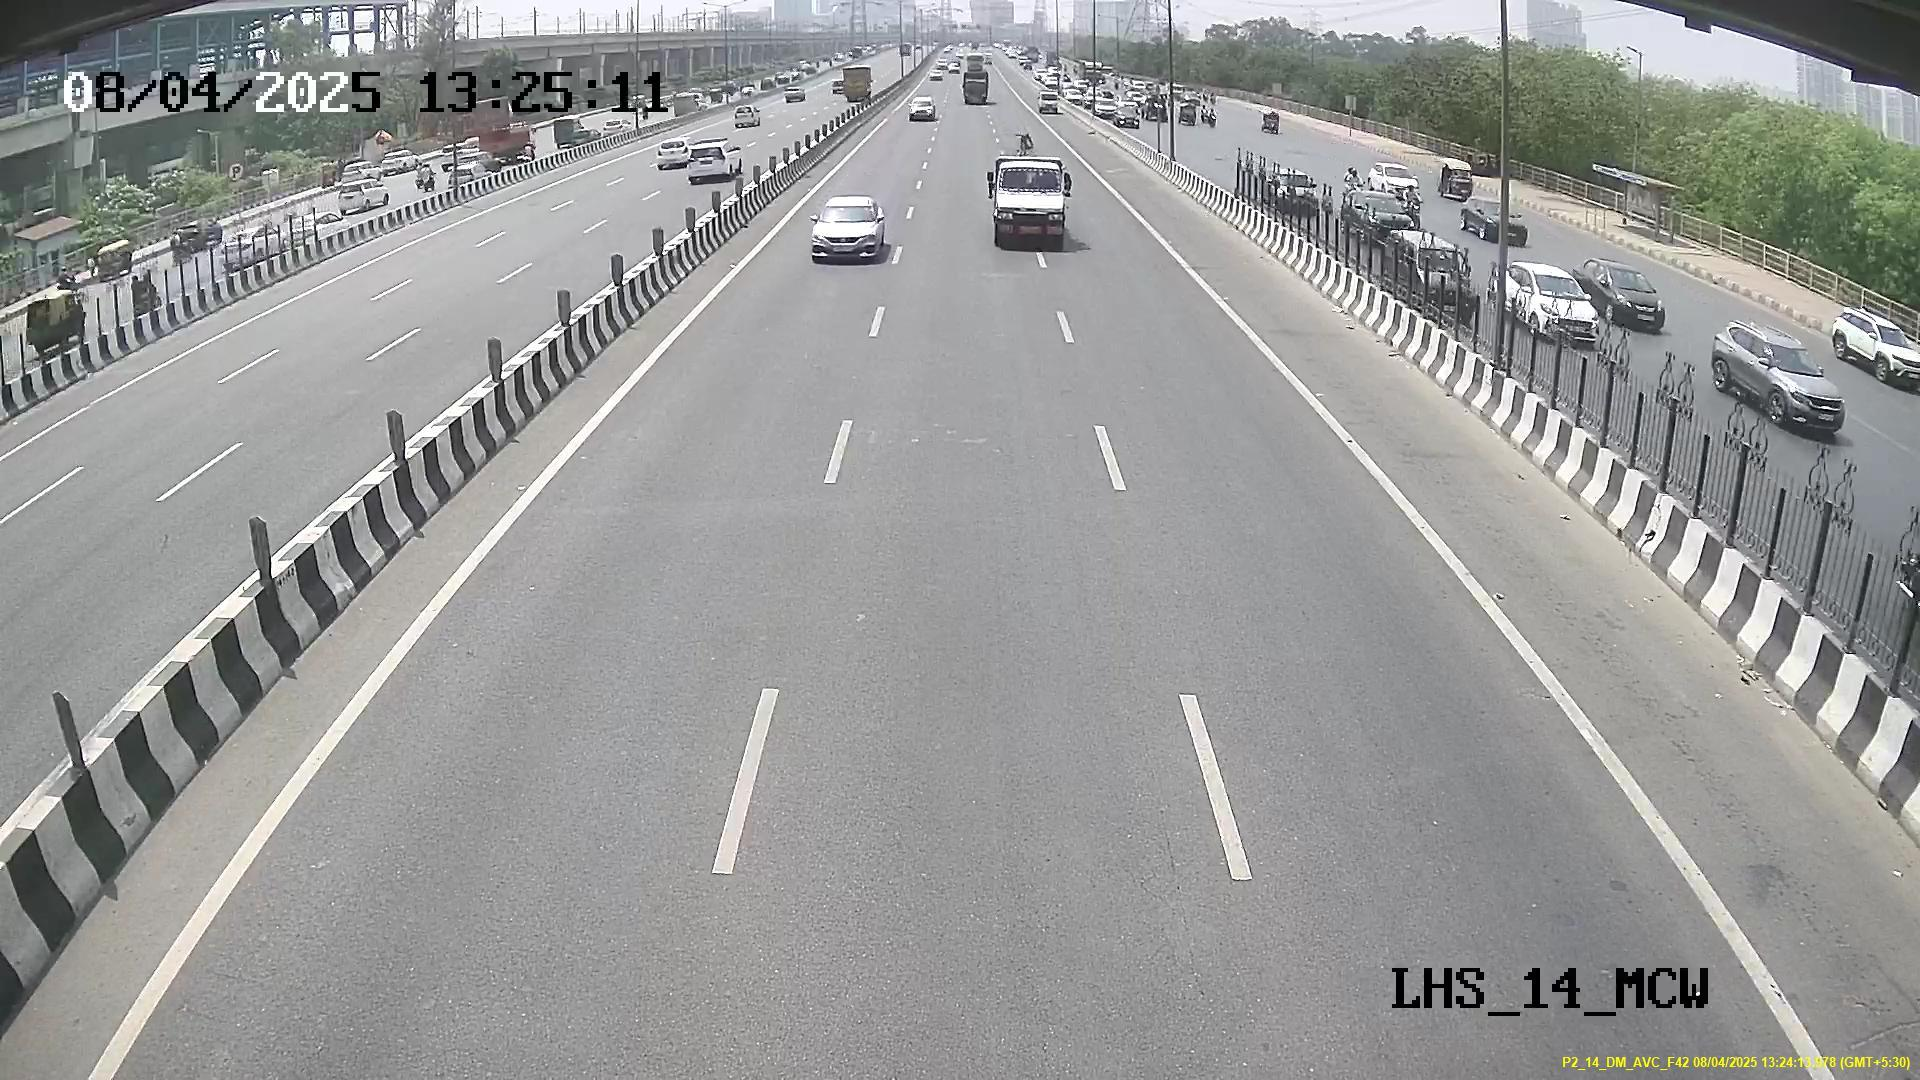car: (802, 200, 894, 266)
lcv: (990, 158, 1068, 248)
